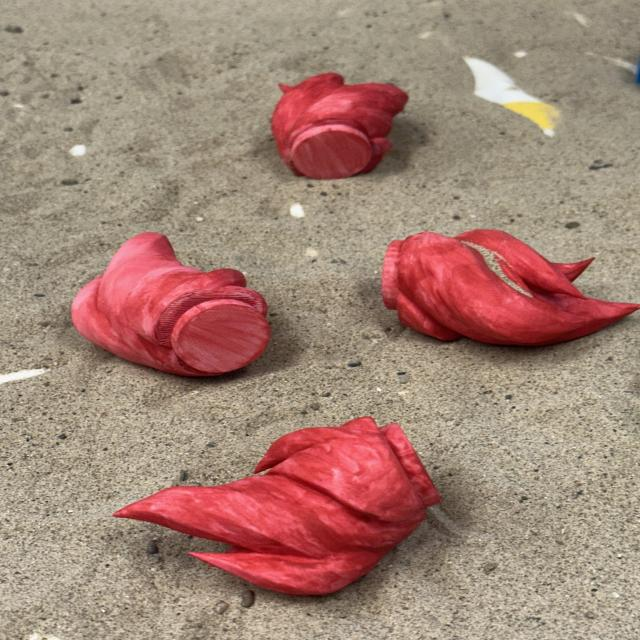fire: (111, 414, 442, 597), (380, 226, 638, 348), (69, 230, 272, 378), (269, 70, 409, 180)
